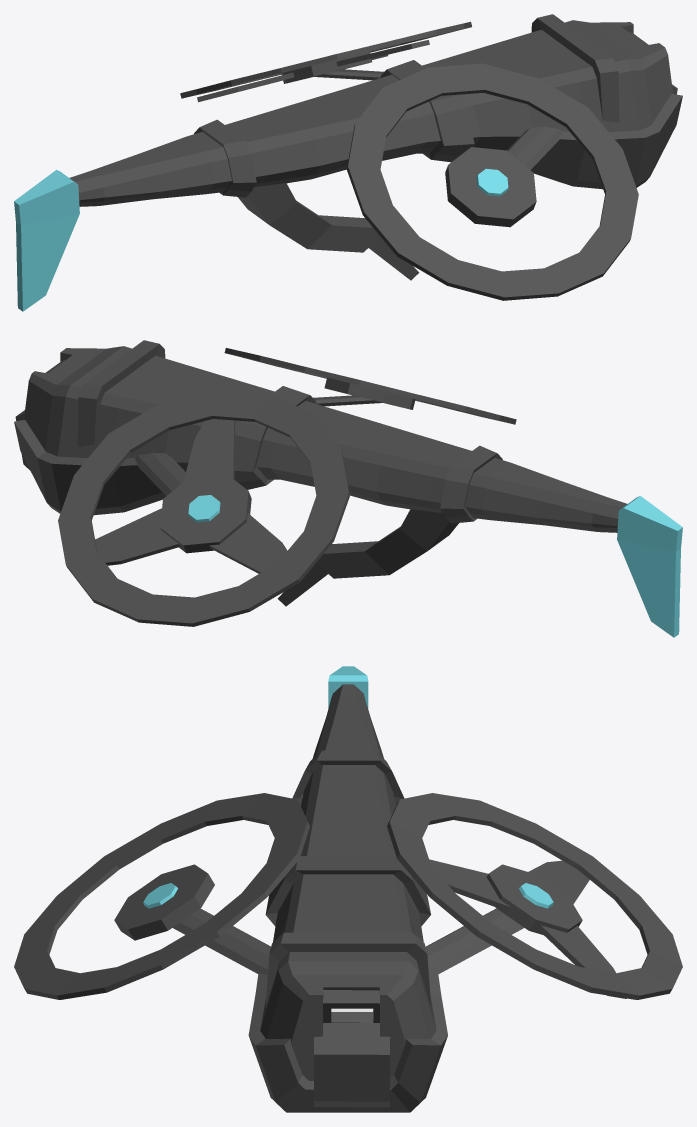
The model's file is Drone.fbx.
3 views of the same model, one above another, from view 1: azimuth 30°, elevation 25°; view 2: azimuth 150°, elevation 25°; view 3: azimuth 270°, elevation 25° (orthographic). The views are drawn at different scales.
Parts seen in each view (by area): view 1: Cube, Cube.001; view 2: Cube, Cube.001; view 3: Cube, Cube.001.
Part boxes in pixels (left/top/right/bottom): Cube: left=14, top=14, right=682, bottom=311; Cube.001: left=197, top=40, right=429, bottom=102; Cube: left=14, top=340, right=682, bottom=637; Cube.001: left=95, top=419, right=287, bottom=573; Cube: left=14, top=666, right=682, bottom=1112; Cube.001: left=429, top=859, right=626, bottom=998.
Bounding box in the file's own units: 93.5 × 31.06 × 74.88.
